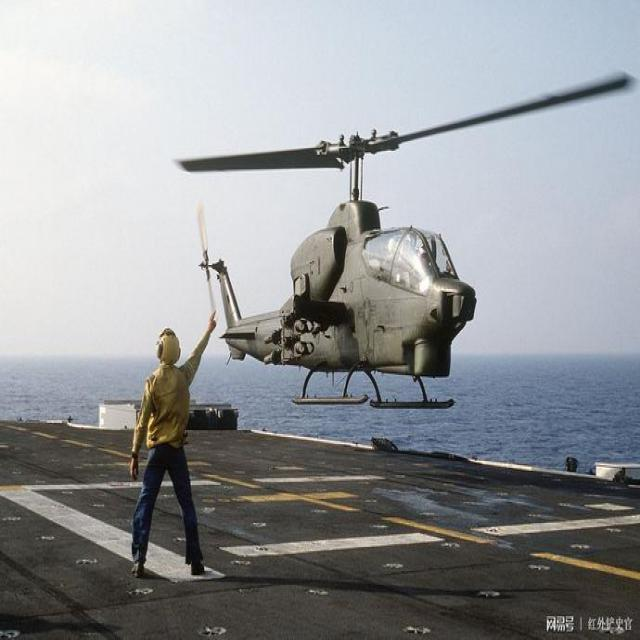MIL_HELO: (155, 63, 638, 414)
